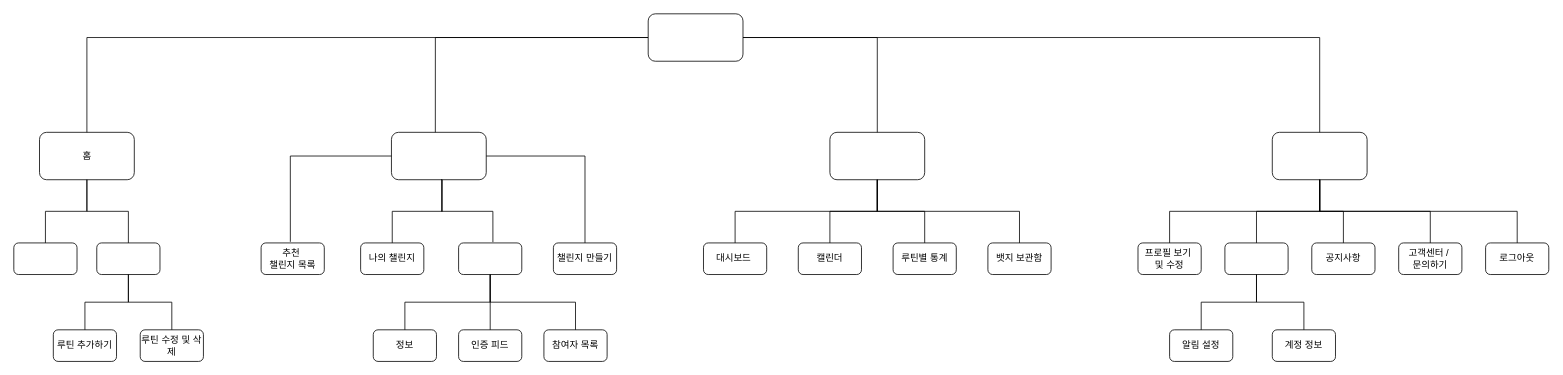
Image size: 1563x375. Some labels were removed from this diagram. The shapes that lost their labels are listed below. From the top down, each one's centre as x and y in pixels, then its label:
point (695, 37): 시작
point (438, 156): 챌린지
point (877, 156): 리포트
point (1319, 156): 마이페이지
point (45, 258): 오늘의 루틴 목록
point (128, 258): 전체 루틴 관리
point (490, 258): 챌린지 상세 페이지
point (1256, 258): 설정
